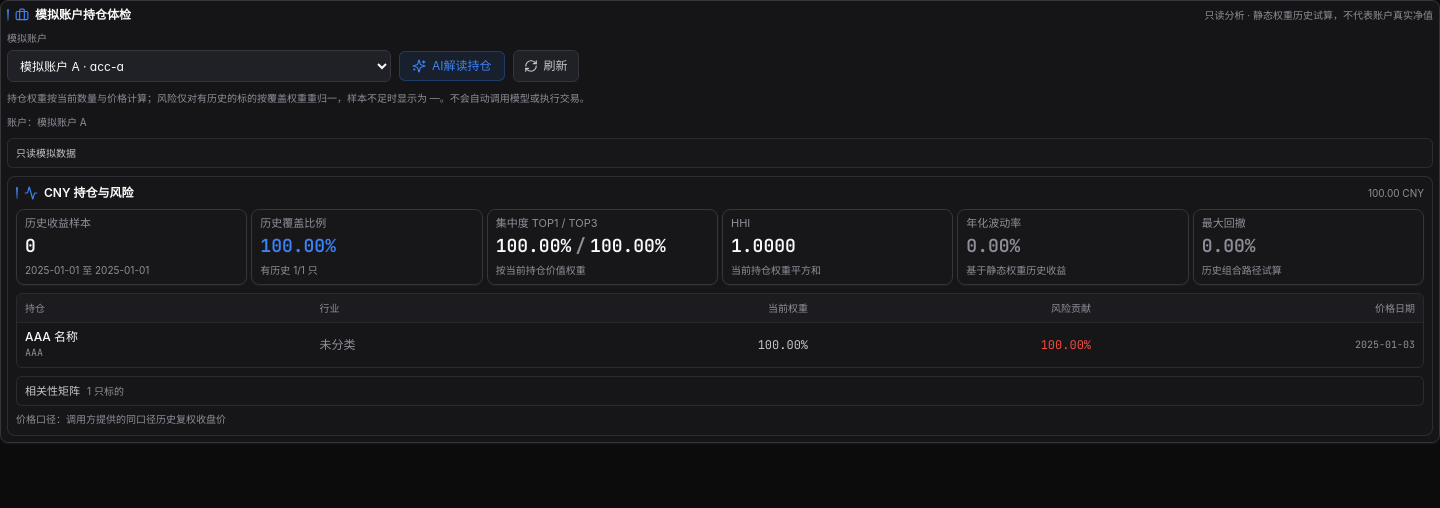
keeps the last good result visible during refresh and offers retry after a failed read
Click the button "刷新" at [546, 66], box left=512, top=50, right=578, bottom=82
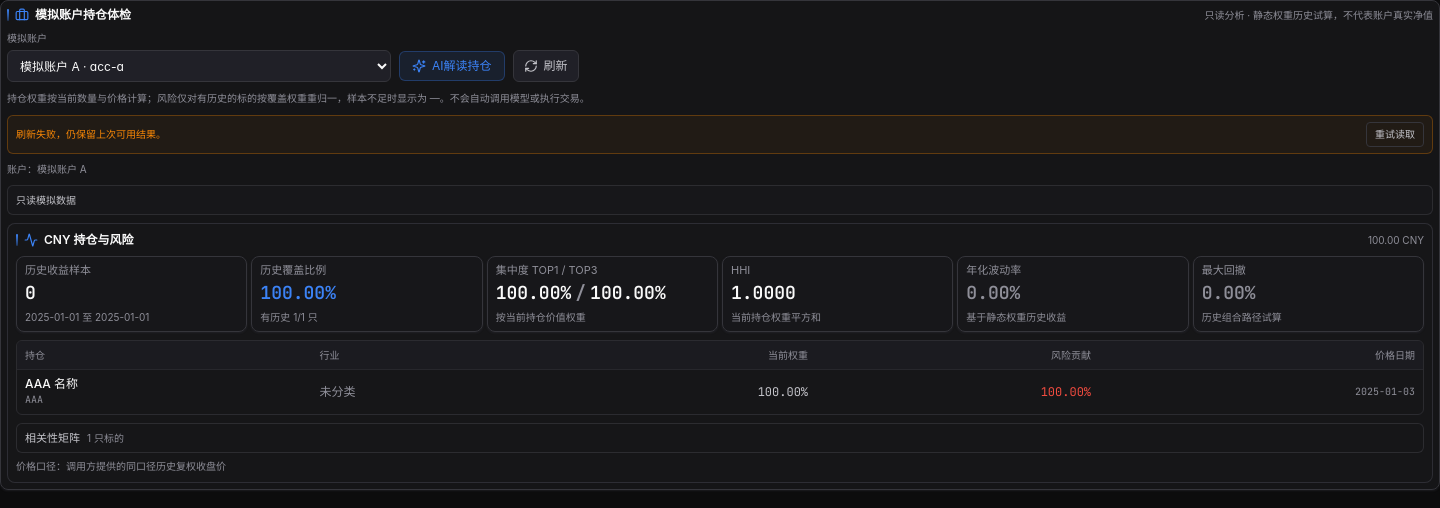
expect the text "AAA" is shown: met, box left=25, top=376, right=78, bottom=391
expect the text "刷新失败，仍保留上次可用结果。" is shown: met, box left=16, top=126, right=166, bottom=142
Click the button "重试读取" at [1395, 134], box left=1366, top=122, right=1424, bottom=146
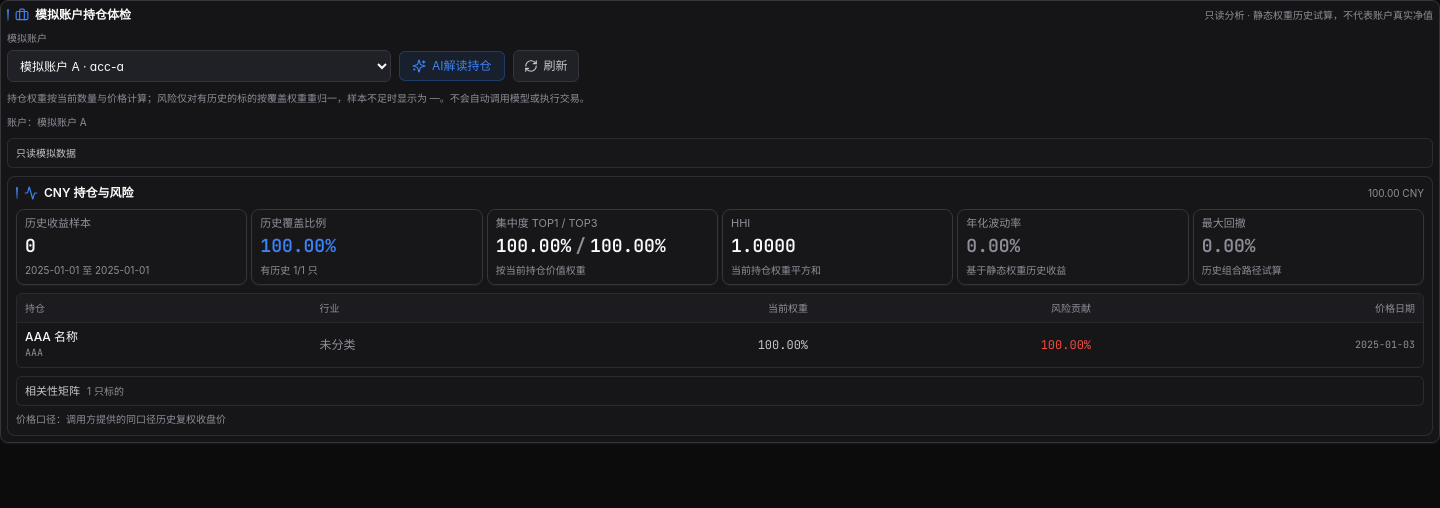
expect the text "AAA" is shown: met, box left=25, top=329, right=78, bottom=344
expect the text "刷新失败，仍保留上次可用结果。" is gone: met
